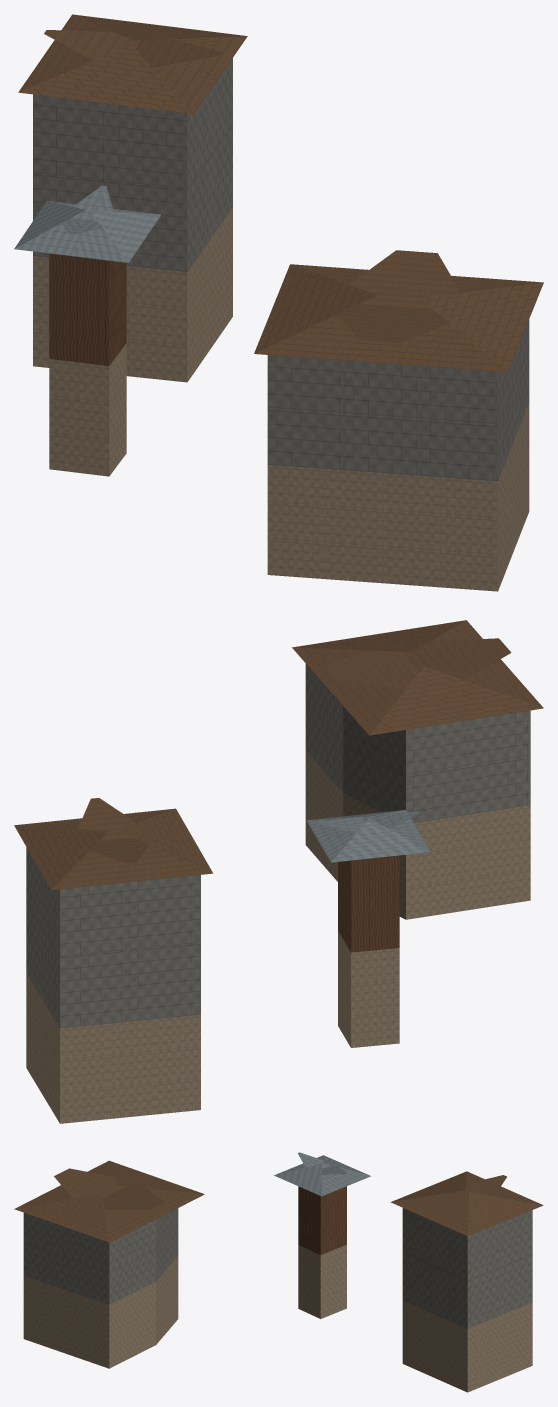
Rendered from bld_c38_47_195.gltf.
3 views of the same model, one above another, from view 1: azimuth 30°, elevation 25°; view 2: azimuth 150°, elevation 25°; view 3: azimuth 270°, elevation 25° (orthographic). The views are drawn at different scales.
Visible parts, largest first — view 1: bld_c38_47_195; view 2: bld_c38_47_195; view 3: bld_c38_47_195.
Boxes of the visible parts, bbox=[...] form: bld_c38_47_195: bbox=[14, 14, 543, 591]; bld_c38_47_195: bbox=[14, 620, 543, 1123]; bld_c38_47_195: bbox=[14, 1152, 543, 1392].
Bounding box in the file's own units: 17.32 × 13.8 × 38.33.
5 materials, 5 textured.
